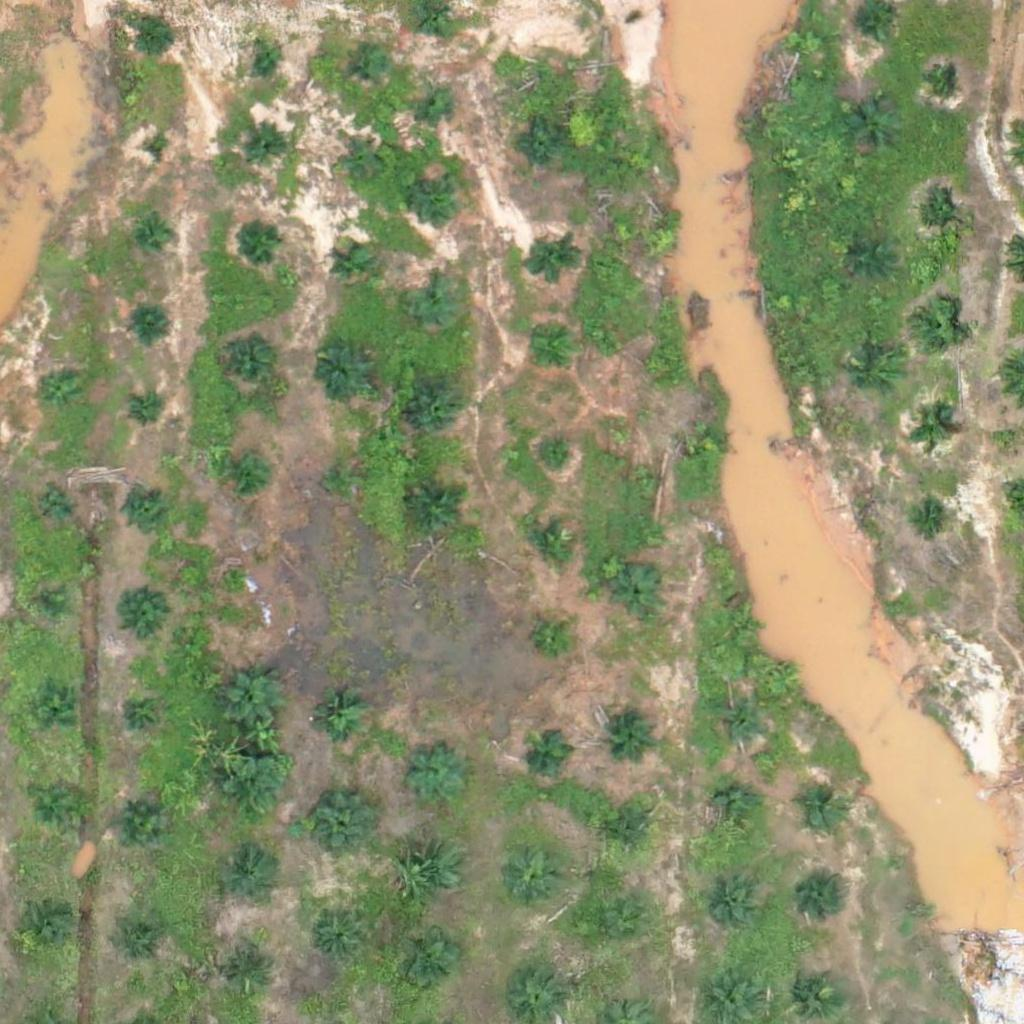Kelapa_Sawit: (584, 899, 647, 962), (699, 875, 762, 938), (309, 339, 372, 402), (307, 692, 370, 755), (311, 792, 374, 855), (406, 275, 469, 338), (221, 668, 284, 731), (14, 899, 77, 961), (395, 931, 457, 994), (506, 846, 568, 909), (405, 744, 467, 807), (223, 757, 285, 820), (401, 844, 463, 907), (413, 382, 463, 433), (412, 485, 462, 536), (118, 587, 168, 638), (523, 517, 573, 568), (225, 336, 275, 387), (237, 217, 287, 268), (414, 173, 464, 223), (118, 925, 168, 975), (220, 857, 270, 907), (228, 950, 278, 1000), (311, 913, 361, 963), (114, 797, 164, 847), (800, 874, 850, 924), (607, 705, 657, 755), (525, 730, 575, 780), (32, 777, 82, 827), (714, 700, 764, 750), (613, 569, 663, 619), (710, 785, 760, 835), (796, 784, 846, 834), (604, 809, 654, 859), (118, 689, 168, 739), (31, 685, 81, 735), (915, 194, 965, 244), (913, 303, 963, 353), (527, 237, 577, 287), (525, 327, 575, 377), (849, 102, 899, 152), (518, 122, 568, 172), (851, 353, 901, 403), (722, 607, 760, 645), (534, 618, 572, 656), (29, 584, 67, 622), (912, 408, 950, 446), (913, 499, 951, 537), (626, 459, 664, 497), (636, 346, 674, 384), (642, 221, 680, 259), (853, 3, 891, 41), (134, 311, 172, 349), (128, 391, 166, 429), (252, 39, 290, 77), (420, 81, 458, 119), (228, 455, 266, 493), (690, 421, 727, 459), (853, 241, 890, 279), (130, 20, 168, 57), (139, 136, 177, 173), (136, 220, 174, 257), (248, 123, 286, 160), (353, 48, 390, 86), (343, 144, 380, 182), (41, 368, 78, 406), (324, 461, 361, 499), (125, 487, 162, 525), (33, 485, 70, 523), (536, 440, 573, 477), (334, 248, 371, 285), (932, 70, 957, 95)
